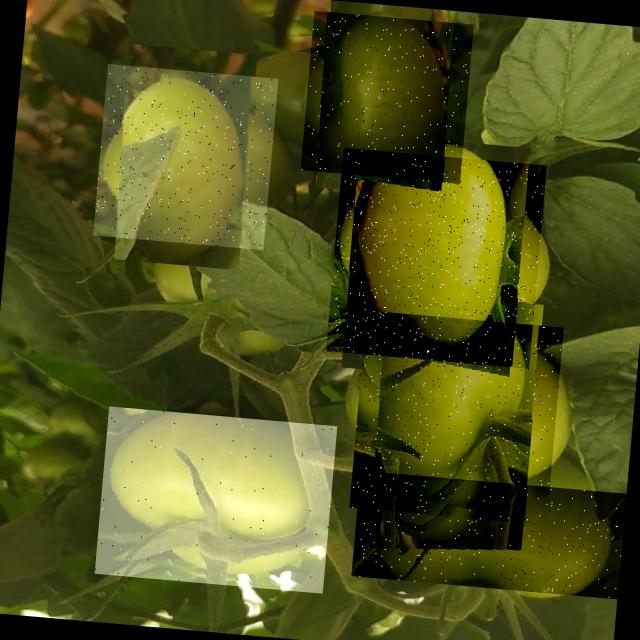Unripe Tomato: (326, 148, 546, 368), (349, 310, 563, 524), (94, 406, 337, 593), (351, 469, 626, 598), (92, 64, 278, 250), (300, 10, 473, 184)
